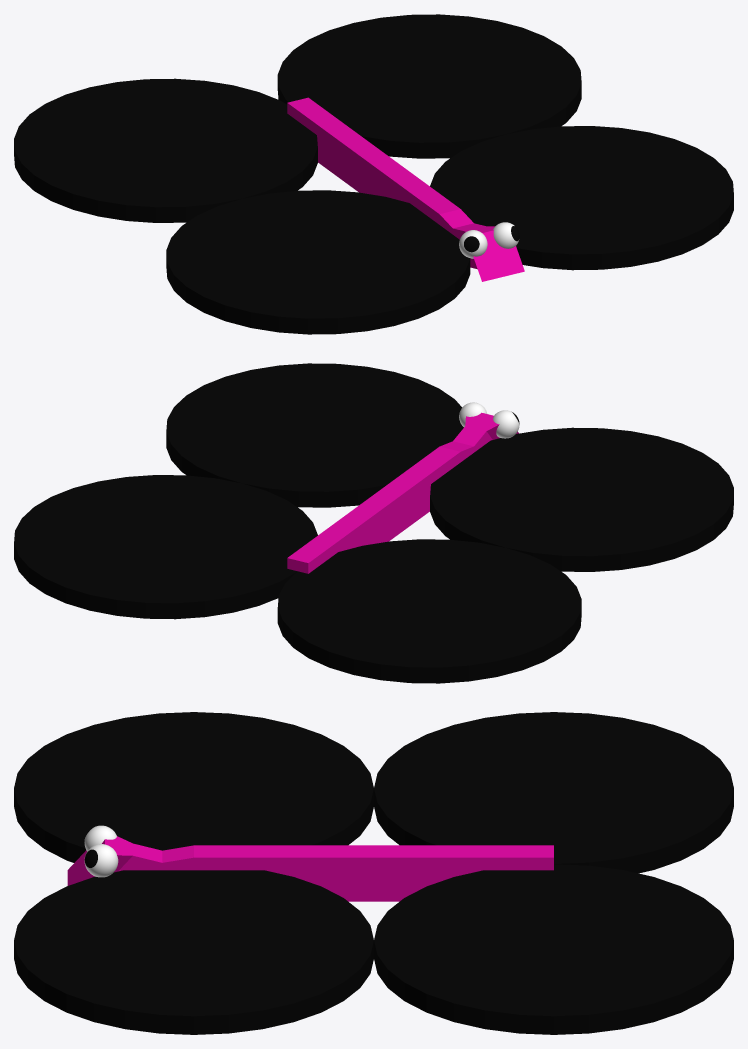
The model's file is drone.fbx.
3 renders of one model, top to bottom at view 1: azimuth 30°, elevation 25°; view 2: azimuth 150°, elevation 25°; view 3: azimuth 270°, elevation 25°, orthographic. The views are drawn at different scales.
Visible parts, largest first — view 1: Cylinder, Cube, Sphere; view 2: Cylinder, Cube, Sphere; view 3: Cylinder, Cube, Sphere.
Part boxes in pixels (x1,y1,x2,y2): Cylinder: (14,14,733,334); Cube: (287,97,524,281); Sphere: (459,222,519,258); Cylinder: (14,363,733,683); Cube: (287,412,518,573); Sphere: (459,402,519,438); Cylinder: (14,712,733,1034); Cube: (67,836,553,901); Sphere: (84,825,118,877).
Size of the model in its own units: 400 by 36.26 by 400.
